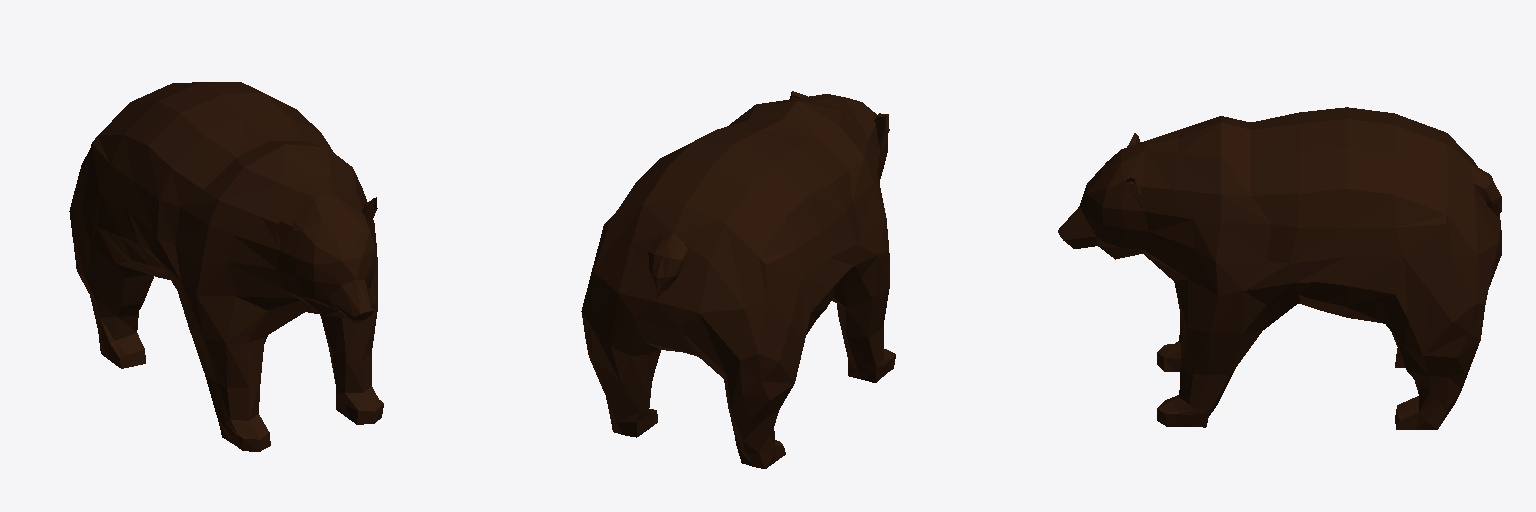
Rendered from TheBear.obj.
3 views of the same model, side by side, from view 1: azimuth 30°, elevation 25°; view 2: azimuth 150°, elevation 25°; view 3: azimuth 270°, elevation 25° (orthographic).
Parts seen in each view (by area): view 1: Cube_Cube.001; view 2: Cube_Cube.001; view 3: Cube_Cube.001.
Part boxes in pixels (left/top/right/bottom): Cube_Cube.001: left=69, top=82, right=383, bottom=451; Cube_Cube.001: left=581, top=91, right=895, bottom=468; Cube_Cube.001: left=1058, top=107, right=1501, bottom=429.
Bounding box in the file's own units: 1.6 × 2.08 × 3.05.